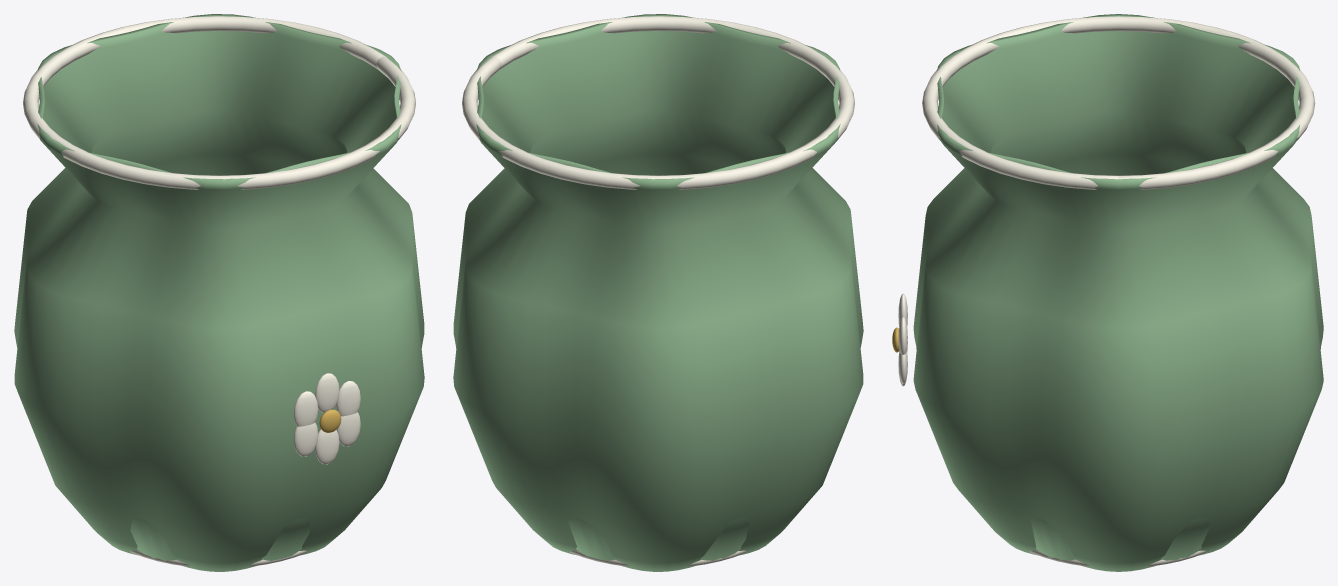
File: stock_vase_daisy.glb
The picture shows the model from 3 angles, left to right: view 1: azimuth 30°, elevation 25°; view 2: azimuth 150°, elevation 25°; view 3: azimuth 270°, elevation 25°; orthographic projection.
Parts seen in each view (by area): view 1: Continuous_hollow_vessel, Rolled_open_lip, Daisy_relief_petal, Daisy_relief_petal.005, Daisy_relief_petal.001, Daisy_relief_petal.003, Daisy_relief_petal.004, Daisy_relief_petal.002; view 2: Continuous_hollow_vessel, Rolled_open_lip; view 3: Continuous_hollow_vessel, Rolled_open_lip.
Part boxes in pixels (x1,y1,x2,y2): Continuous_hollow_vessel: [14, 14, 424, 571]; Rolled_open_lip: [23, 16, 415, 189]; Daisy_relief_petal: [315, 373, 339, 412]; Daisy_relief_petal.005: [293, 391, 318, 426]; Daisy_relief_petal.001: [336, 381, 360, 416]; Daisy_relief_petal.003: [315, 429, 339, 464]; Daisy_relief_petal.004: [293, 422, 318, 456]; Daisy_relief_petal.002: [336, 412, 360, 446]; Continuous_hollow_vessel: [453, 14, 863, 571]; Rolled_open_lip: [462, 16, 854, 189]; Continuous_hollow_vessel: [913, 14, 1323, 571]; Rolled_open_lip: [922, 16, 1315, 189].
Bounding box in the file's own units: 0.2835 × 0.301 × 0.2744.
